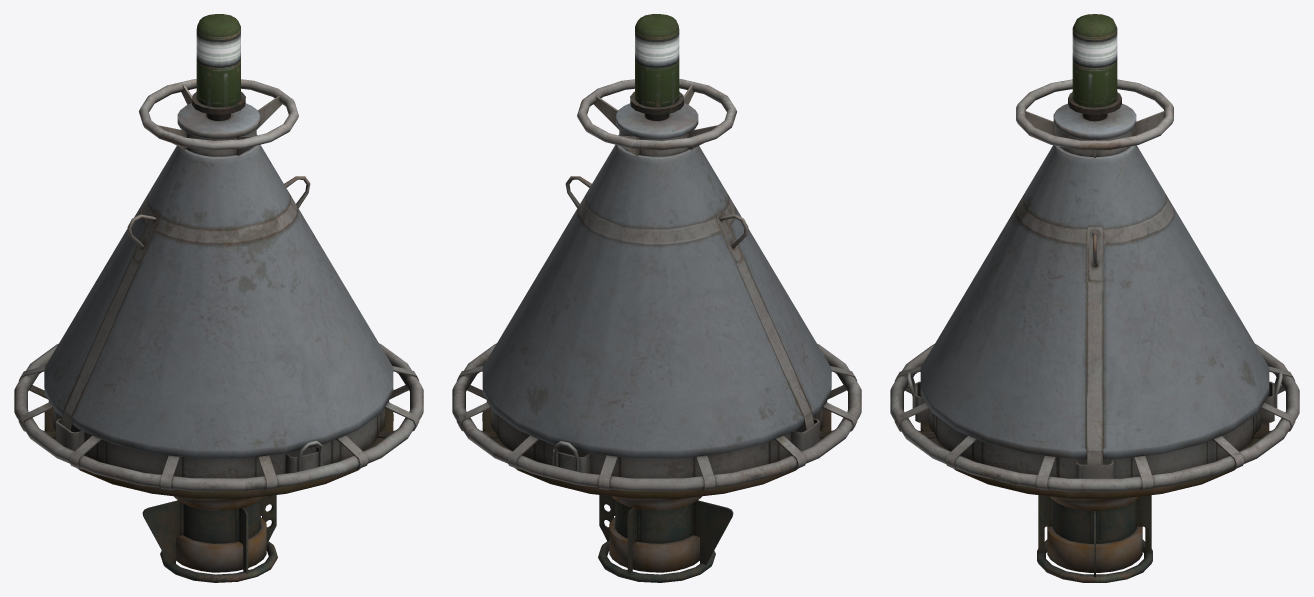
The model's file is C03_HXZAW.glb.
3 views of the same model, side by side, from view 1: azimuth 30°, elevation 25°; view 2: azimuth 150°, elevation 25°; view 3: azimuth 270°, elevation 25° (orthographic).
Visible parts, largest first — view 1: C03ZAW01; view 2: C03ZAW01; view 3: C03ZAW01.
Boxes of the visible parts, left/top/right/bottom form: C03ZAW01: left=14, top=14, right=423, bottom=582; C03ZAW01: left=452, top=14, right=861, bottom=582; C03ZAW01: left=890, top=14, right=1299, bottom=582.
Size of the model in its own units: 1.8 by 2.62 by 1.8.
1 material, 1 textured.
